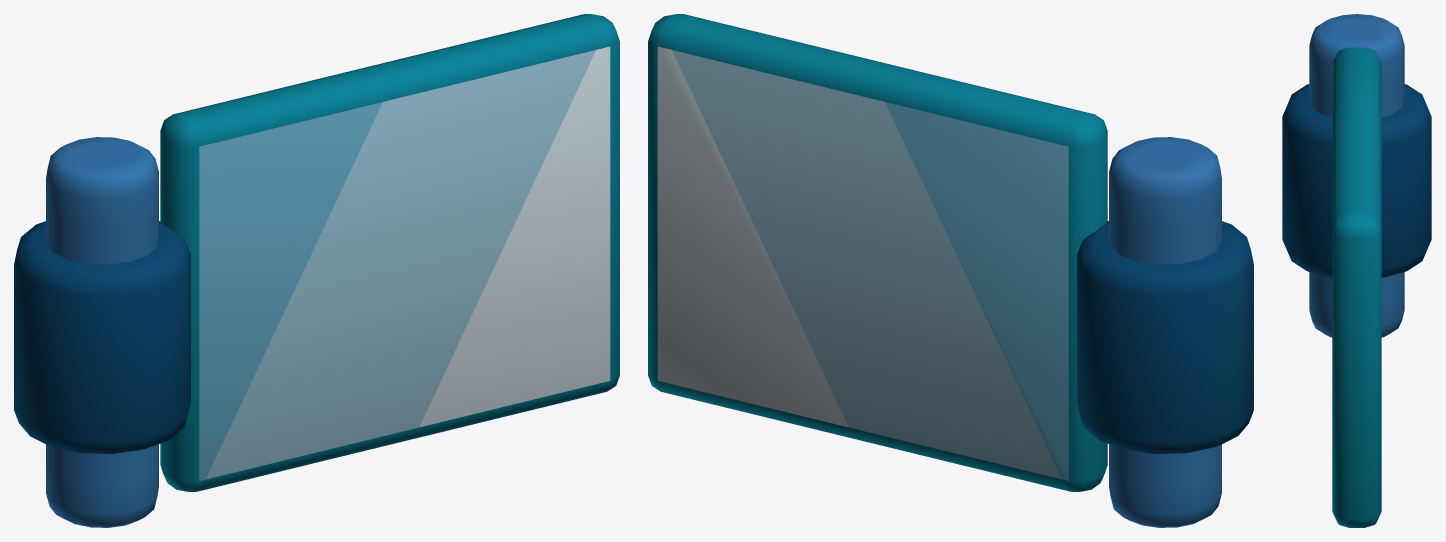
The model's file is candy_platform1.fbx.
3 renders of one model, left to right at view 1: azimuth 30°, elevation 25°; view 2: azimuth 150°, elevation 25°; view 3: azimuth 270°, elevation 25°, orthographic. The views are drawn at different scales.
Visible parts, largest first — view 1: candy_platform1 (×2); view 2: candy_platform1 (×2); view 3: candy_platform1 (×2).
Part boxes in pixels (x1=…): candy_platform1 (×2): x1=14, y1=14, x2=619, y2=527; candy_platform1 (×2): x1=648, y1=14, x2=1253, y2=527; candy_platform1 (×2): x1=1282, y1=14, x2=1431, y2=527.
Size of the model in its own units: 331 by 200 by 87.1.
Materials: 1 (1 with a texture image).
